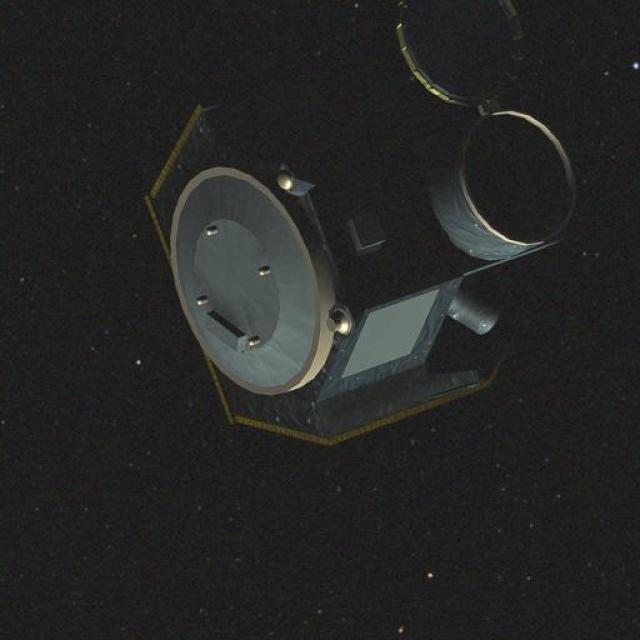cheops: (129, 0, 640, 451)
